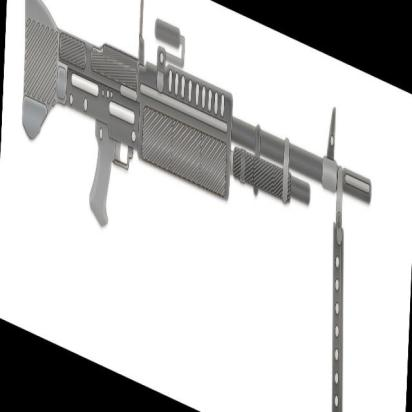Gun: (21, 0, 374, 243)
